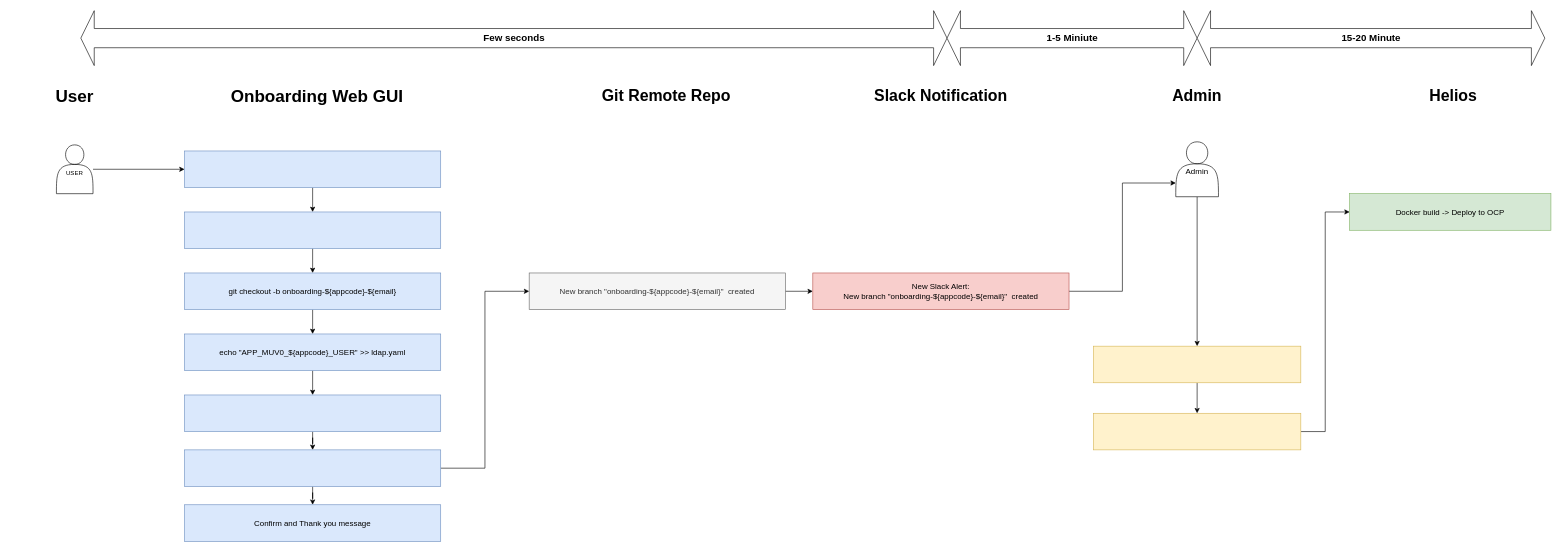
Some shapes in this 1562 by 552 pixel diagram are drawn without their labels. The shapes that lost their labels are listed below. From the top down, each one's box as (x1, y1, x2, y2) in pixels, then its label:
(184, 150, 441, 188): Get Appcode and Email
(184, 211, 441, 249): git clone repo (ldap repo)
(1093, 346, 1301, 383): Review new branch "onboarding-${appcode}-${email}"
(184, 394, 441, 432): git commit -m "[ldap] new appcode onboarding"
(1093, 413, 1301, 450): Merge into master
(184, 449, 441, 486): git push --set-upstream origin onboarding-${appcode}-${email}
